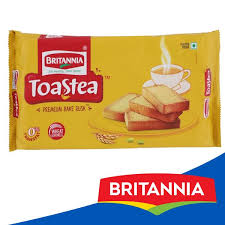>Britania-toast-med: (9, 34, 221, 149)
